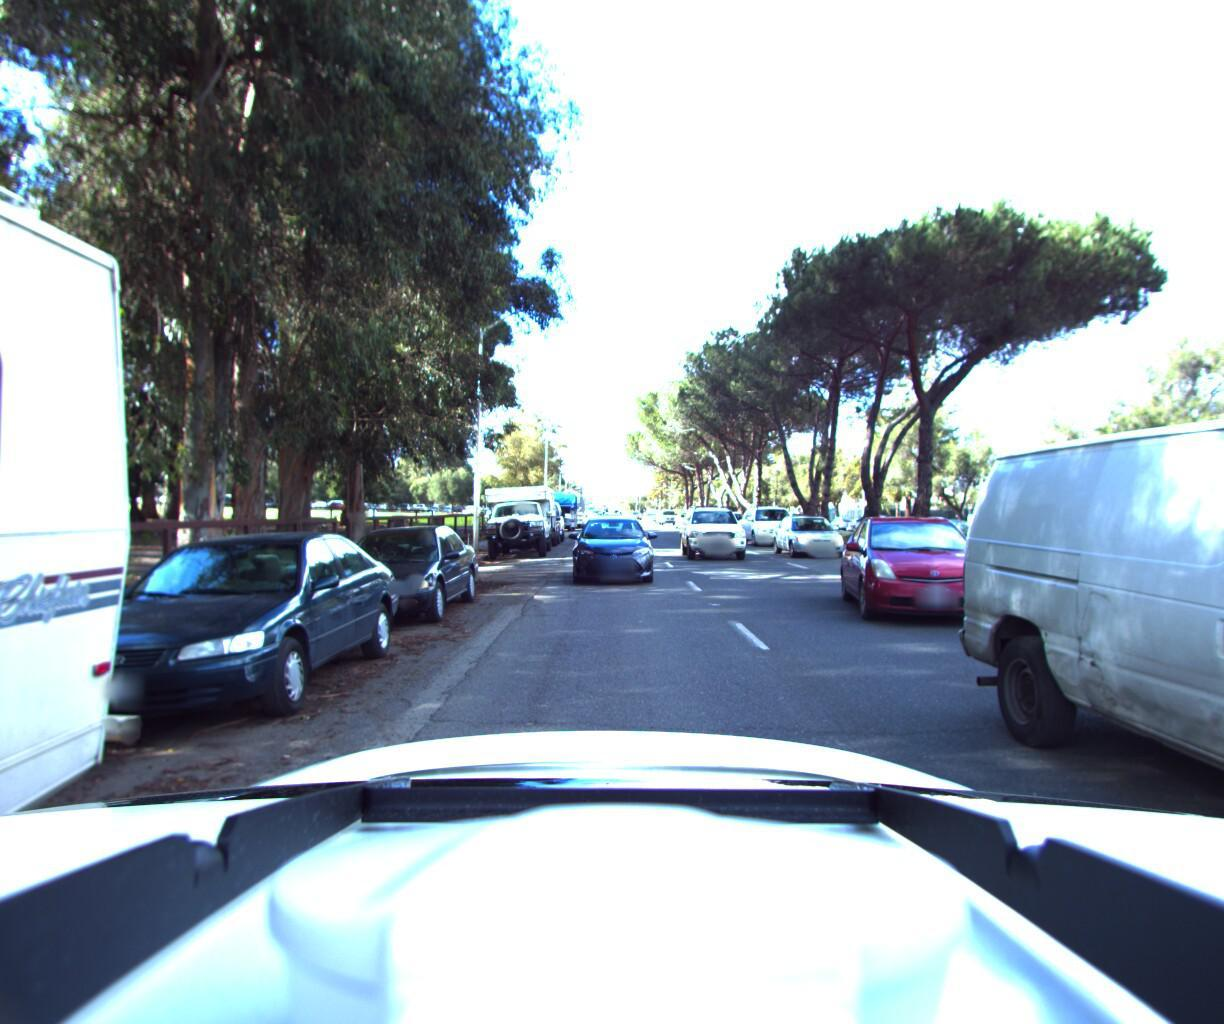car: (836, 494, 1042, 644), (299, 521, 493, 633), (570, 507, 658, 588), (682, 503, 755, 565), (772, 513, 852, 561), (738, 504, 805, 549), (521, 500, 569, 547), (516, 506, 564, 551), (931, 519, 984, 541), (597, 509, 629, 540), (865, 516, 903, 536)
other_vehicle: (473, 480, 560, 562), (540, 491, 583, 535), (551, 493, 589, 532)
